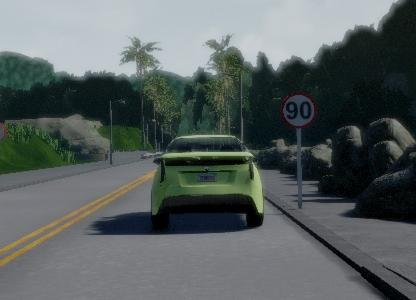Speed_90: (280, 90, 316, 132)
